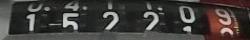digits: (61, 1, 81, 35), (140, 10, 160, 37), (101, 10, 120, 35), (214, 7, 233, 26), (178, 5, 196, 23), (26, 12, 36, 32)
